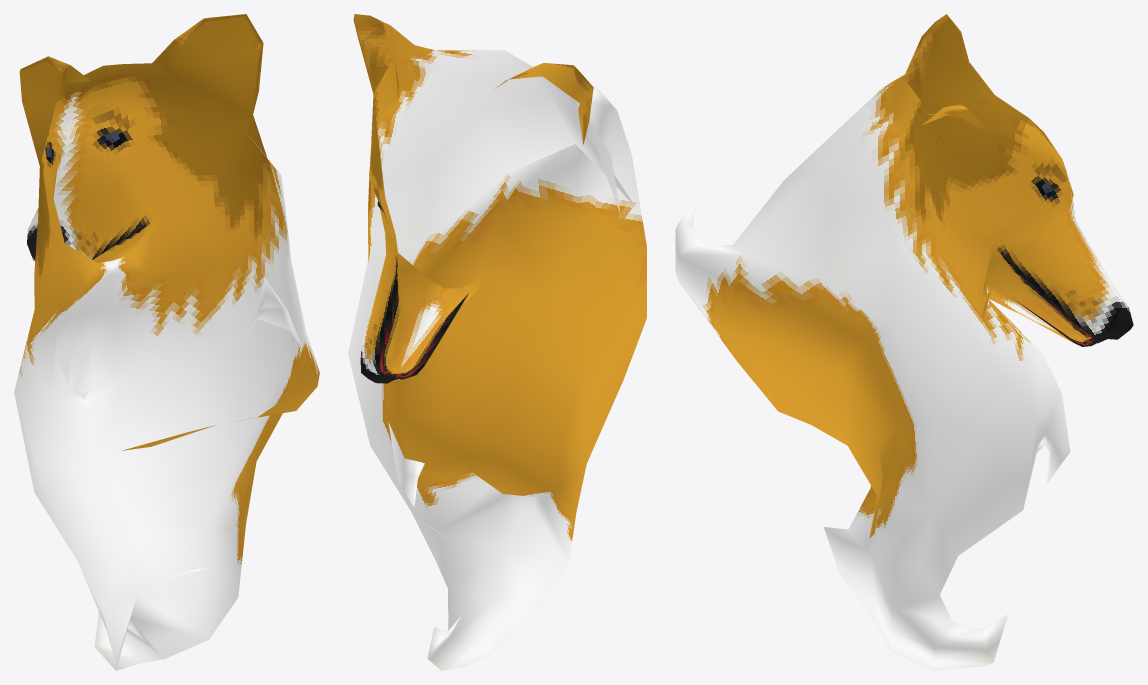
Rendered from ps2_save-icons_lassie.glb.
The picture shows the model from 3 angles, left to right: view 1: azimuth 30°, elevation 25°; view 2: azimuth 150°, elevation 25°; view 3: azimuth 270°, elevation 25°; orthographic projection. The views are drawn at different scales.
Parts seen in each view (by area): view 1: icon.ico; view 2: icon.ico; view 3: icon.ico.
Part boxes in pixels (x1,y1,x2,y2): icon.ico: [14, 14, 319, 670]; icon.ico: [348, 14, 646, 670]; icon.ico: [675, 14, 1133, 670].
Bounding box in the file's own units: 1.49 × 3.56 × 2.48.
1 material, 1 textured.
